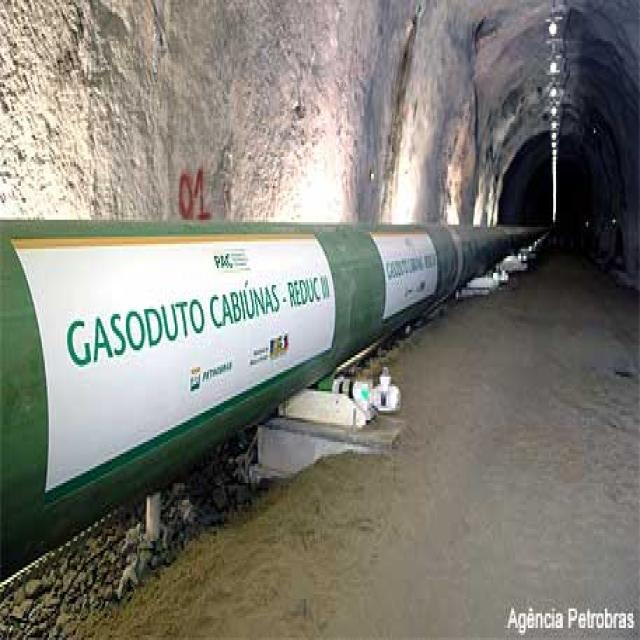gas: (2, 219, 529, 550)
